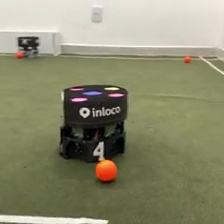ball: (94, 158, 119, 183), (183, 54, 192, 63), (16, 50, 24, 59)
goal: (1, 29, 63, 56)
robot: (57, 80, 129, 163), (16, 35, 40, 58)
